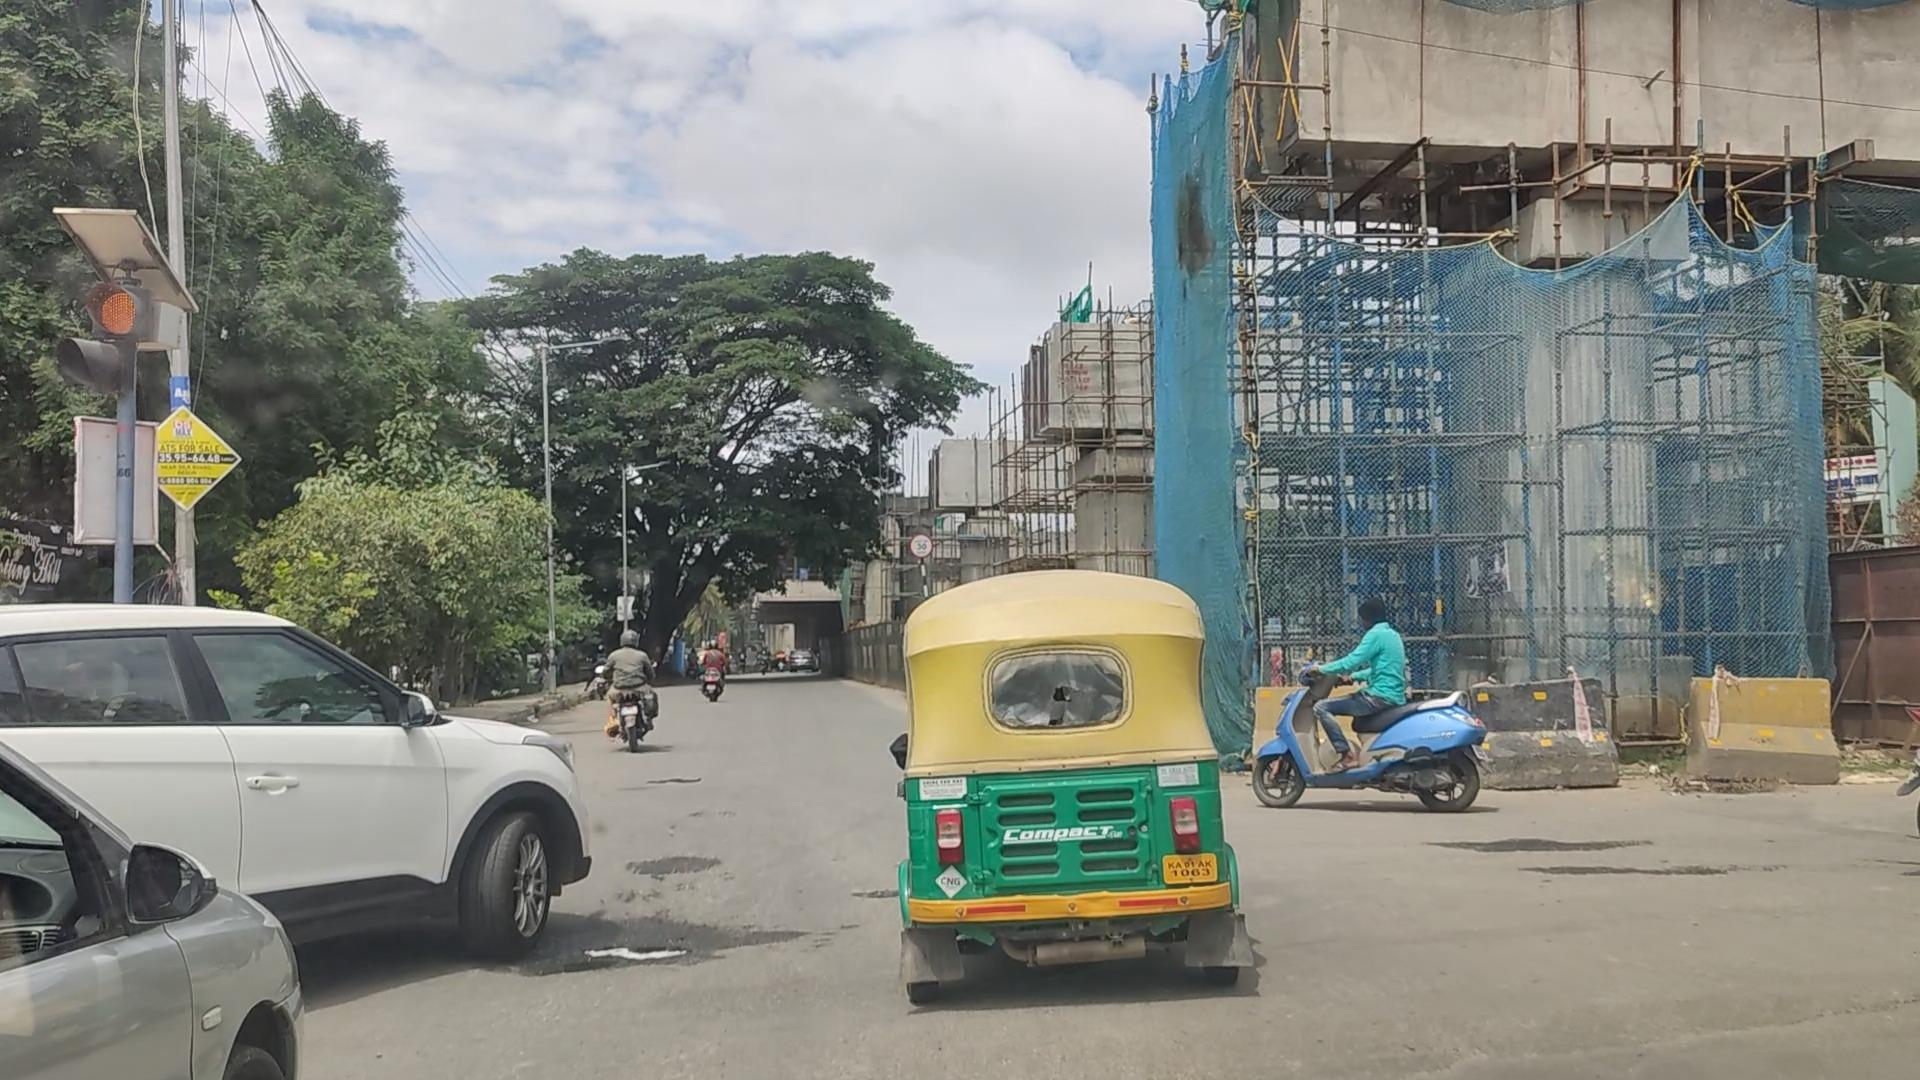LMV: (886, 560, 1249, 1009), (1275, 585, 1474, 835)
RoadDamages: (554, 894, 708, 981)
